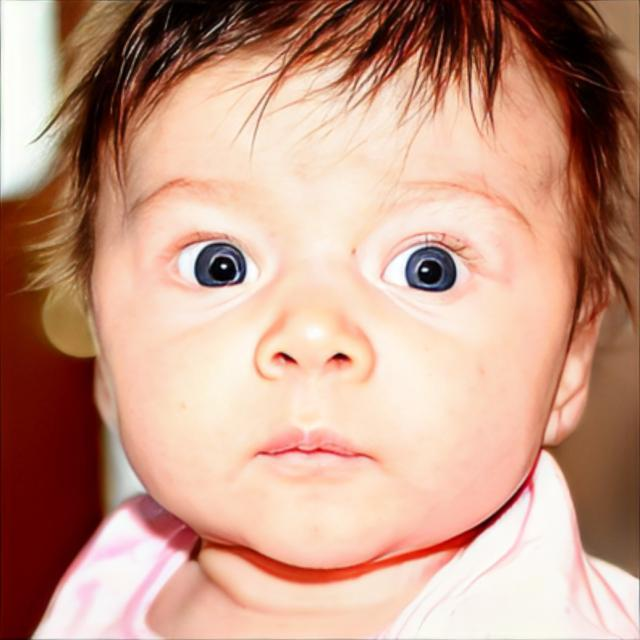fear: (99, 36, 558, 569)
